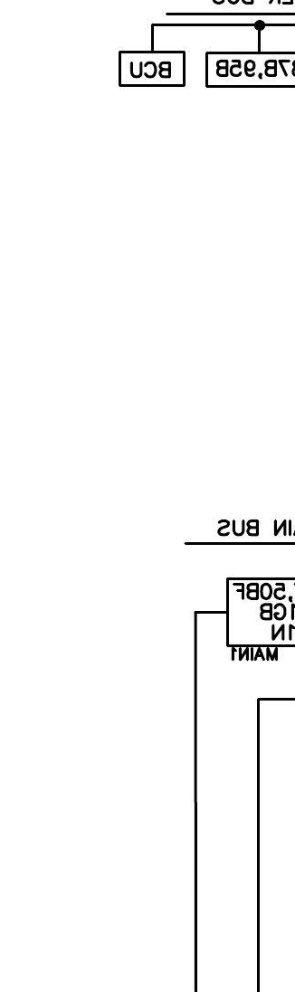BCU: (118, 50, 186, 88)
